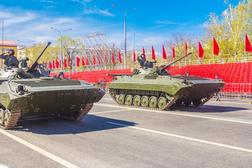bmp: (108, 56, 223, 106)
